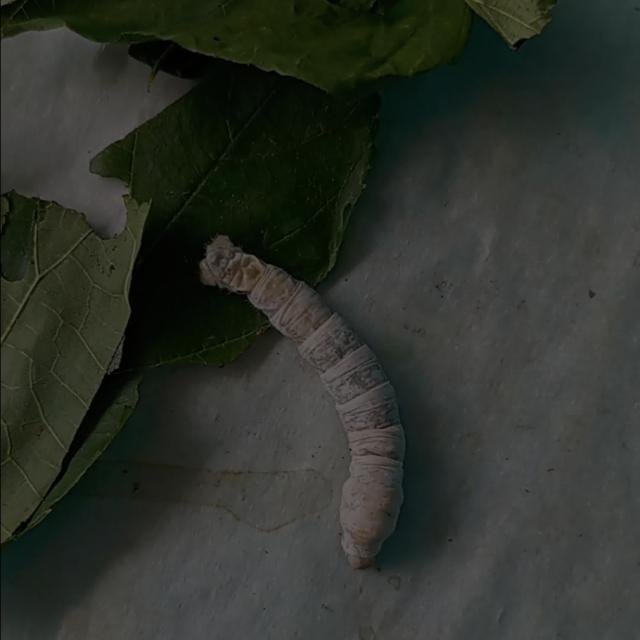Grasserie: (191, 230, 416, 574)
